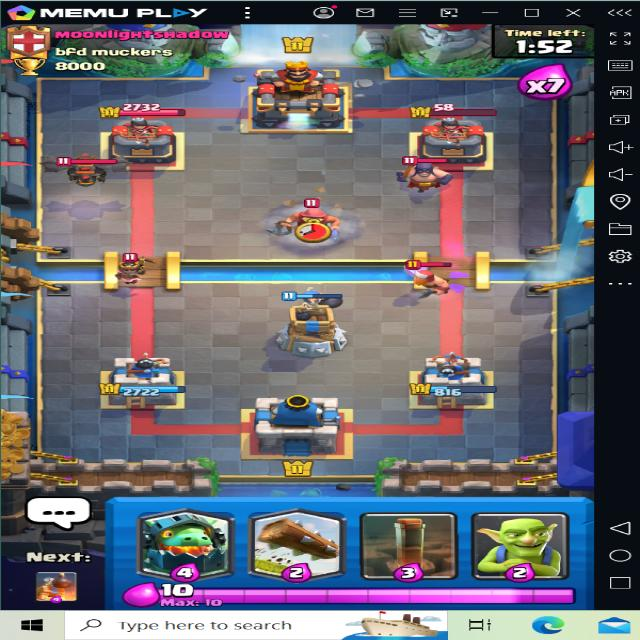executioner: (394, 155, 458, 194)
fisherman: (267, 192, 356, 240)
lava-hound: (40, 150, 132, 188)
little-prince: (99, 246, 153, 288)
lumberjack: (394, 260, 462, 290)
